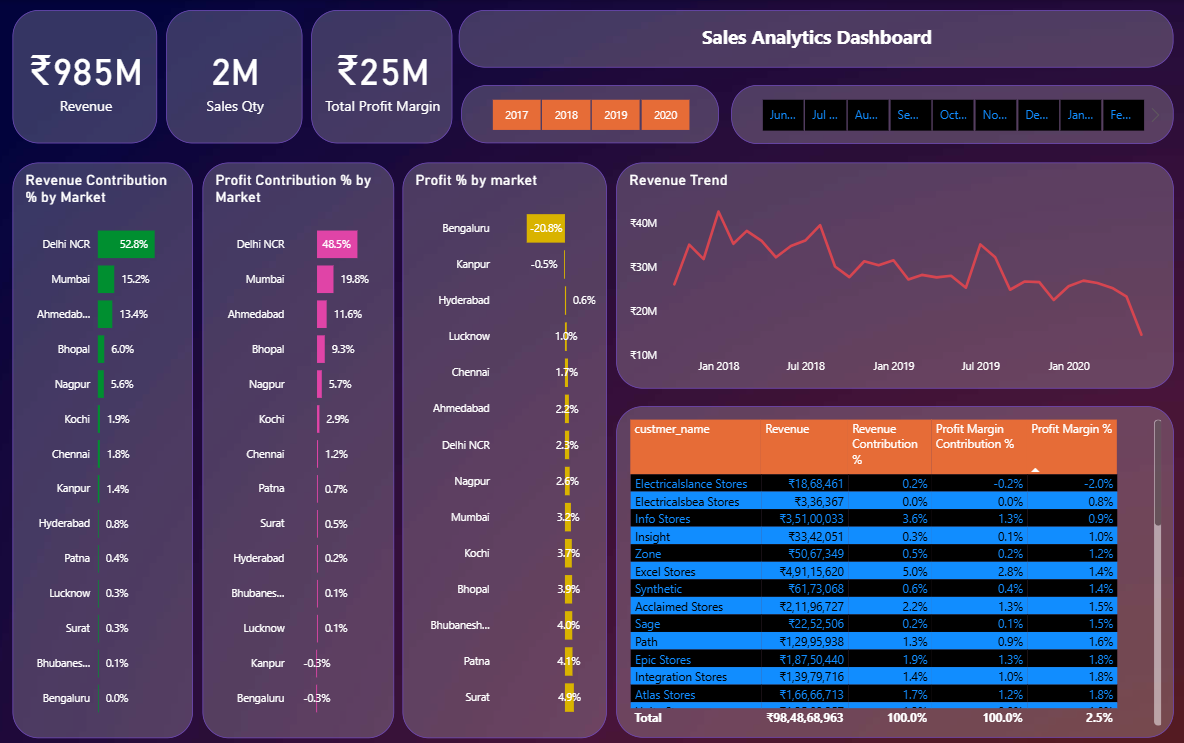

The page's visual inventory and layout, read from the dashboard file:
{"tool":"powerbi","page":{"name":"Profit Analysis","canvas":[1350,850],"ordinal":1},"visuals":[{"type":"card","fields":{"Values":["BaseMeasures (2).Revenue"]},"box":[14.5,11.6,165,152],"z":0},{"type":"card","fields":{"Values":["BaseMeasures (2).Sales Qty"]},"box":[189.6,11.6,154.9,152],"z":1000},{"type":"barChart","title":"Profit % by market","fields":{"Y":["BaseMeasures (2).Profit Margin %"],"Category":["sales markets.markets_name"]},"box":[458.8,185.2,233,655.6],"z":2000},{"type":"barChart","title":"Profit Contribution % by Market","fields":{"Y":["BaseMeasures (2).Profit Margin Contribution %"],"Category":["sales markets.markets_name"]},"box":[230.1,185.2,218.5,655.6],"z":3000},{"type":"slicer","fields":{"Values":["sales date.year"]},"box":[525.4,97,293.8,66.6],"z":4000},{"type":"slicer","fields":{"Values":["sales date.cy_date"]},"box":[833.2,96.9,504.2,66.9],"z":5000},{"type":"tableEx","title":"Top 5 Customers","fields":{"Values":["sales customers.custmer_name","BaseMeasures (2).Revenue","BaseMeasures (2).Revenue Contribution %","BaseMeasures (2).Profit Margin Contribution %","BaseMeasures (2).Profit Margin %"]},"box":[702.2,462.9,635.2,377.4],"z":6000},{"type":"lineChart","title":"Revenue Trend","fields":{"Y":["BaseMeasures (2).Revenue"],"Category":["sales date.cy_date"]},"box":[702.2,185.2,635.2,257.8],"z":7000},{"type":"card","fields":{"Values":["BaseMeasures (2).Total Profit Margin"]},"box":[354.6,11.6,160.6,152],"z":8000},{"type":"barChart","title":"Revenue Contribution % by Market","fields":{"Y":["BaseMeasures (2).Revenue Contribution %"],"Category":["sales markets.markets_name"]},"box":[14.5,185.2,205.5,655.6],"z":9000},{"type":"textbox","box":[522.7,11.4,814.7,65.5],"z":10000}]}

Visuals, with their boxes in screenshot pixels (x1, y1, x2, y2), scaled from the page's 1350x850 canvas onto the 1184x743 screenshot:
card - BaseMeasures (2).Revenue: rect(13, 10, 157, 143)
card - BaseMeasures (2).Sales Qty: rect(166, 10, 302, 143)
"Profit % by market" barChart: rect(402, 162, 607, 735)
"Profit Contribution % by Market" barChart: rect(202, 162, 393, 735)
slicer - sales date.year: rect(461, 85, 718, 143)
slicer - sales date.cy_date: rect(731, 85, 1173, 143)
"Top 5 Customers" tableEx: rect(616, 405, 1173, 735)
"Revenue Trend" lineChart: rect(616, 162, 1173, 387)
card - BaseMeasures (2).Total Profit Margin: rect(311, 10, 452, 143)
"Revenue Contribution % by Market" barChart: rect(13, 162, 193, 735)
textbox: rect(458, 10, 1173, 67)
